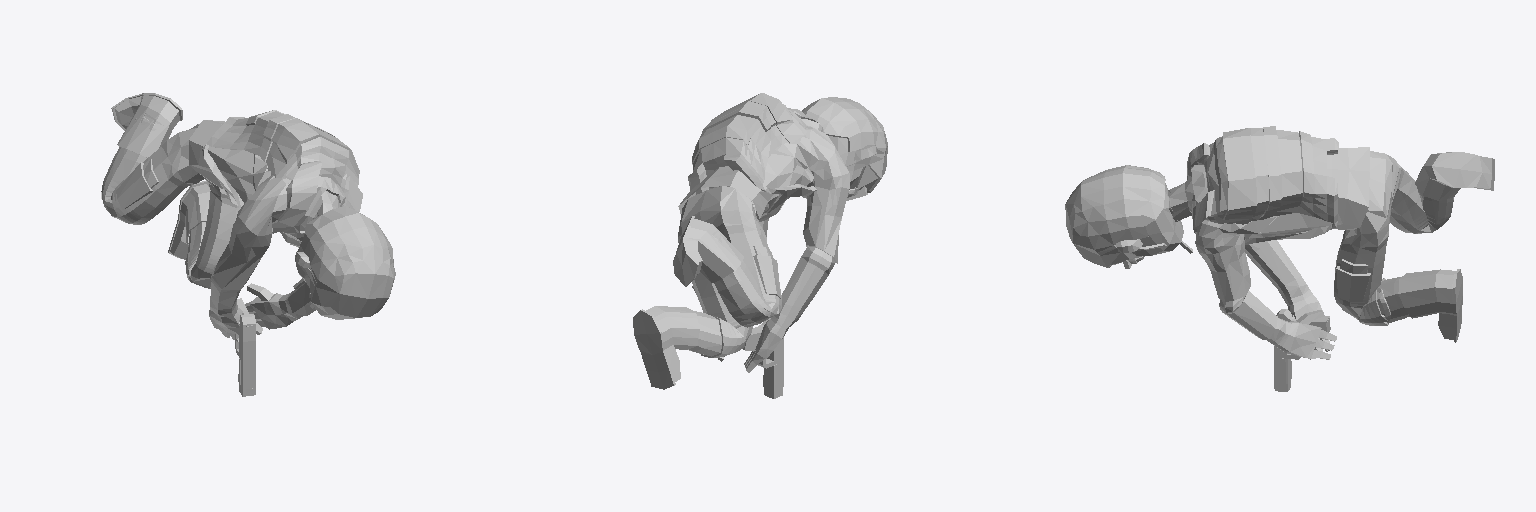
The model's file is frame_0048.obj.
3 views of the same model, side by side, from view 1: azimuth 30°, elevation 25°; view 2: azimuth 150°, elevation 25°; view 3: azimuth 270°, elevation 25° (orthographic).
Parts seen in each view (by area): view 1: Body, Gun; view 2: Body, Gun; view 3: Body, Gun.
Boxes of the visible parts, x1=… form: Body: x1=101, y1=93, x2=395, y2=339; Gun: x1=235, y1=298, x2=255, y2=396; Body: x1=633, y1=93, x2=887, y2=389; Gun: x1=743, y1=318, x2=783, y2=398; Body: x1=1065, y1=126, x2=1494, y2=359; Gun: x1=1274, y1=309, x2=1330, y2=391.
Size of the model in its own units: 1.43 by 2.39 by 3.4.